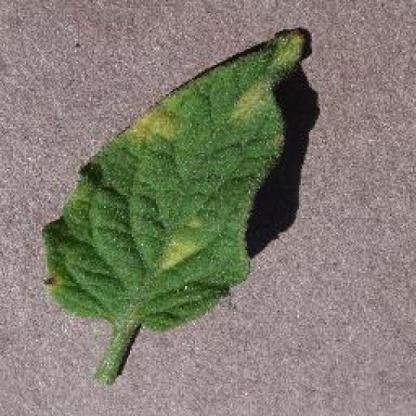Tomato_Leaf_Mold: (47, 30, 304, 328)
